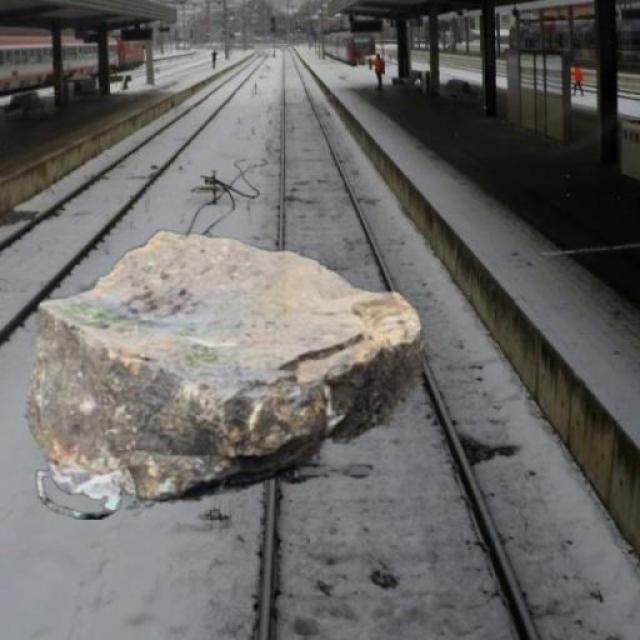Stone: (28, 228, 429, 520)
